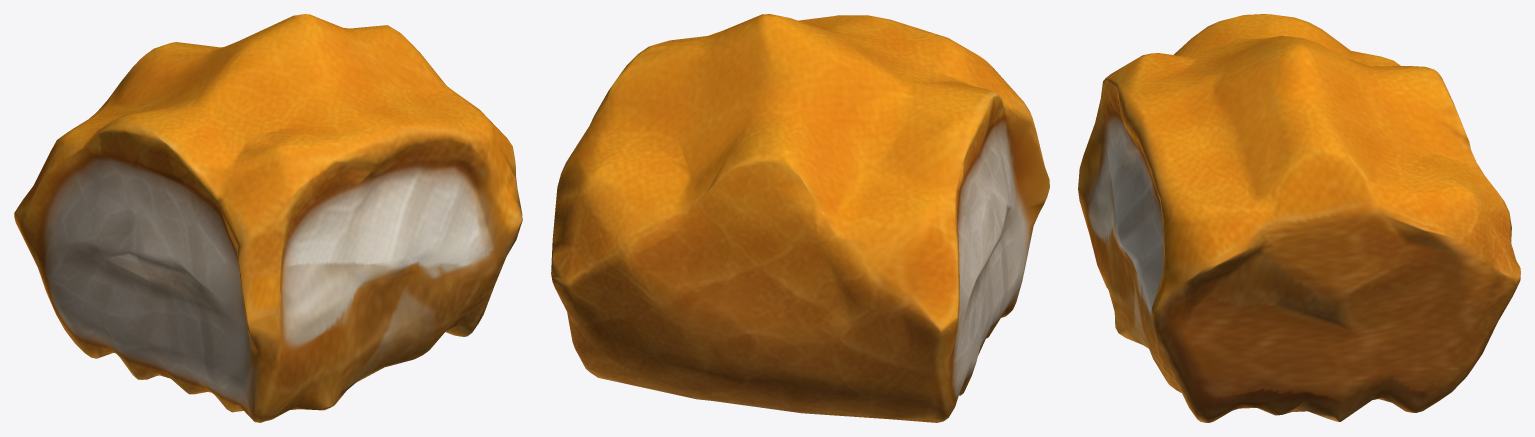
The model's file is Eel_Fry_01.fbx.
3 views of the same model, side by side, from view 1: azimuth 30°, elevation 25°; view 2: azimuth 150°, elevation 25°; view 3: azimuth 270°, elevation 25° (orthographic). The views are drawn at different scales.
Visible parts, largest first — view 1: Eel_Fry_01; view 2: Eel_Fry_01; view 3: Eel_Fry_01.
Part boxes in pixels (x1,y1,x2,y2): Eel_Fry_01: [14, 14, 522, 422]; Eel_Fry_01: [551, 14, 1049, 422]; Eel_Fry_01: [1078, 14, 1520, 422].
Bounding box in the file's own units: 0.4583 × 0.3508 × 0.4383.
Materials: 1 (1 with a texture image).
